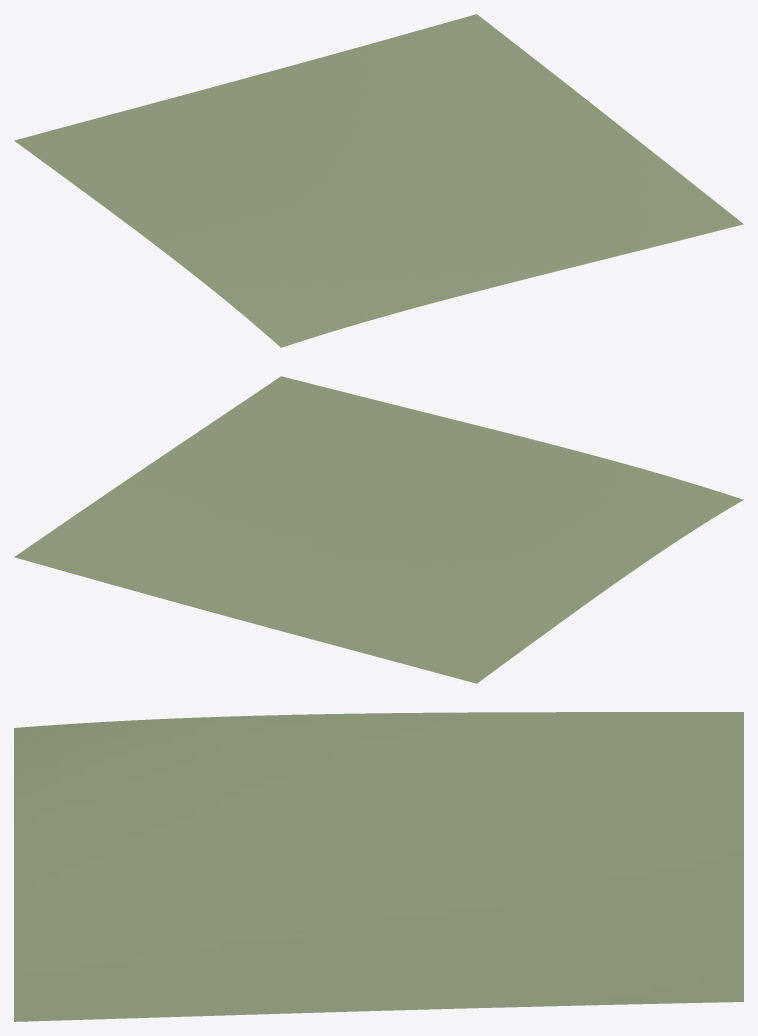
File: expanse-12-11.glb
3 views of the same model, one above another, from view 1: azimuth 30°, elevation 25°; view 2: azimuth 150°, elevation 25°; view 3: azimuth 270°, elevation 25° (orthographic). The views are drawn at different scales.
Parts seen in each view (by area): view 1: expanse-12-11; view 2: expanse-12-11; view 3: expanse-12-11.
Boxes of the visible parts, <box> form: expanse-12-11: <box>14,14,743,347</box>; expanse-12-11: <box>14,376,743,683</box>; expanse-12-11: <box>14,712,743,1021</box>.
Size of the model in its own units: 256 by 13.38 by 256.
